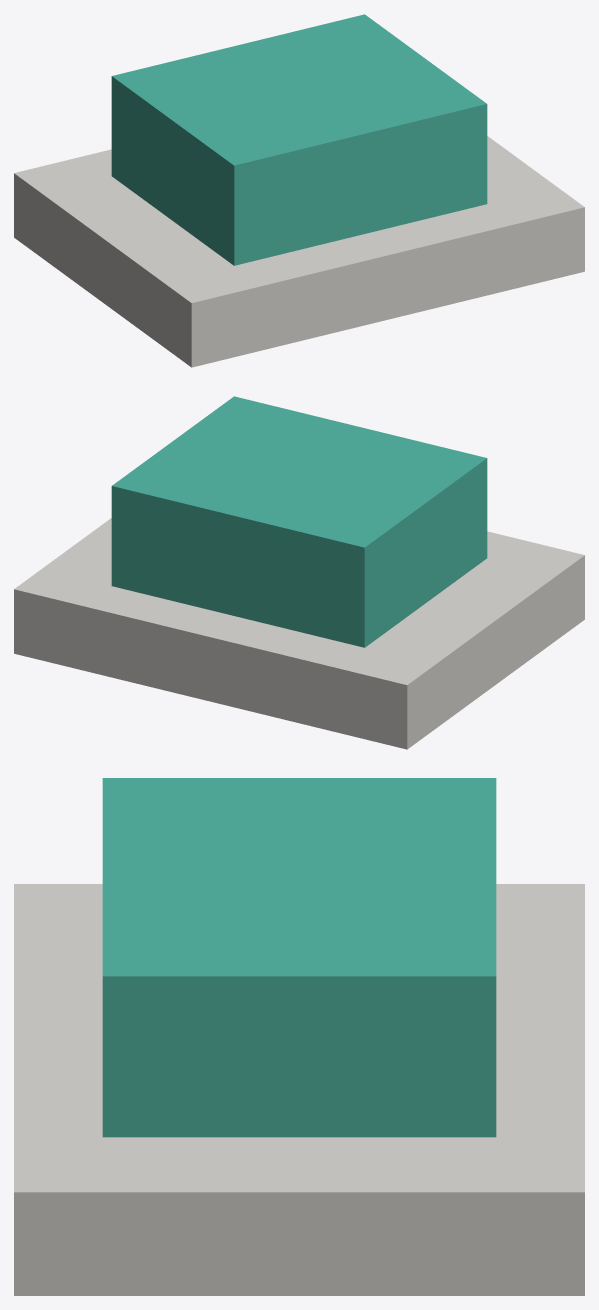
The model's file is message_board-lv1.glb.
The picture shows the model from 3 angles, top to bottom: view 1: azimuth 30°, elevation 25°; view 2: azimuth 150°, elevation 25°; view 3: azimuth 270°, elevation 25°; orthographic projection. The views are drawn at different scales.
Parts seen in each view (by area): view 1: Level1, Base; view 2: Level1, Base; view 3: Level1, Base.
Boxes of the visible parts, left/top/right/bottom form: Level1: left=111, top=14, right=487, bottom=265; Base: left=14, top=136, right=584, bottom=367; Level1: left=111, top=396, right=487, bottom=647; Base: left=14, top=518, right=584, bottom=749; Level1: left=102, top=778, right=496, bottom=1137; Base: left=14, top=884, right=584, bottom=1295.
Size of the model in its own units: 1.15 by 0.46 by 0.9.
